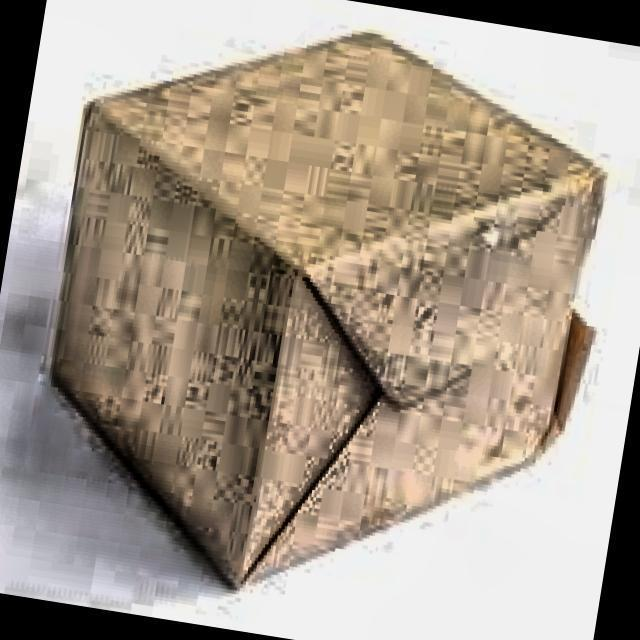cardboard: (13, 0, 635, 639)
